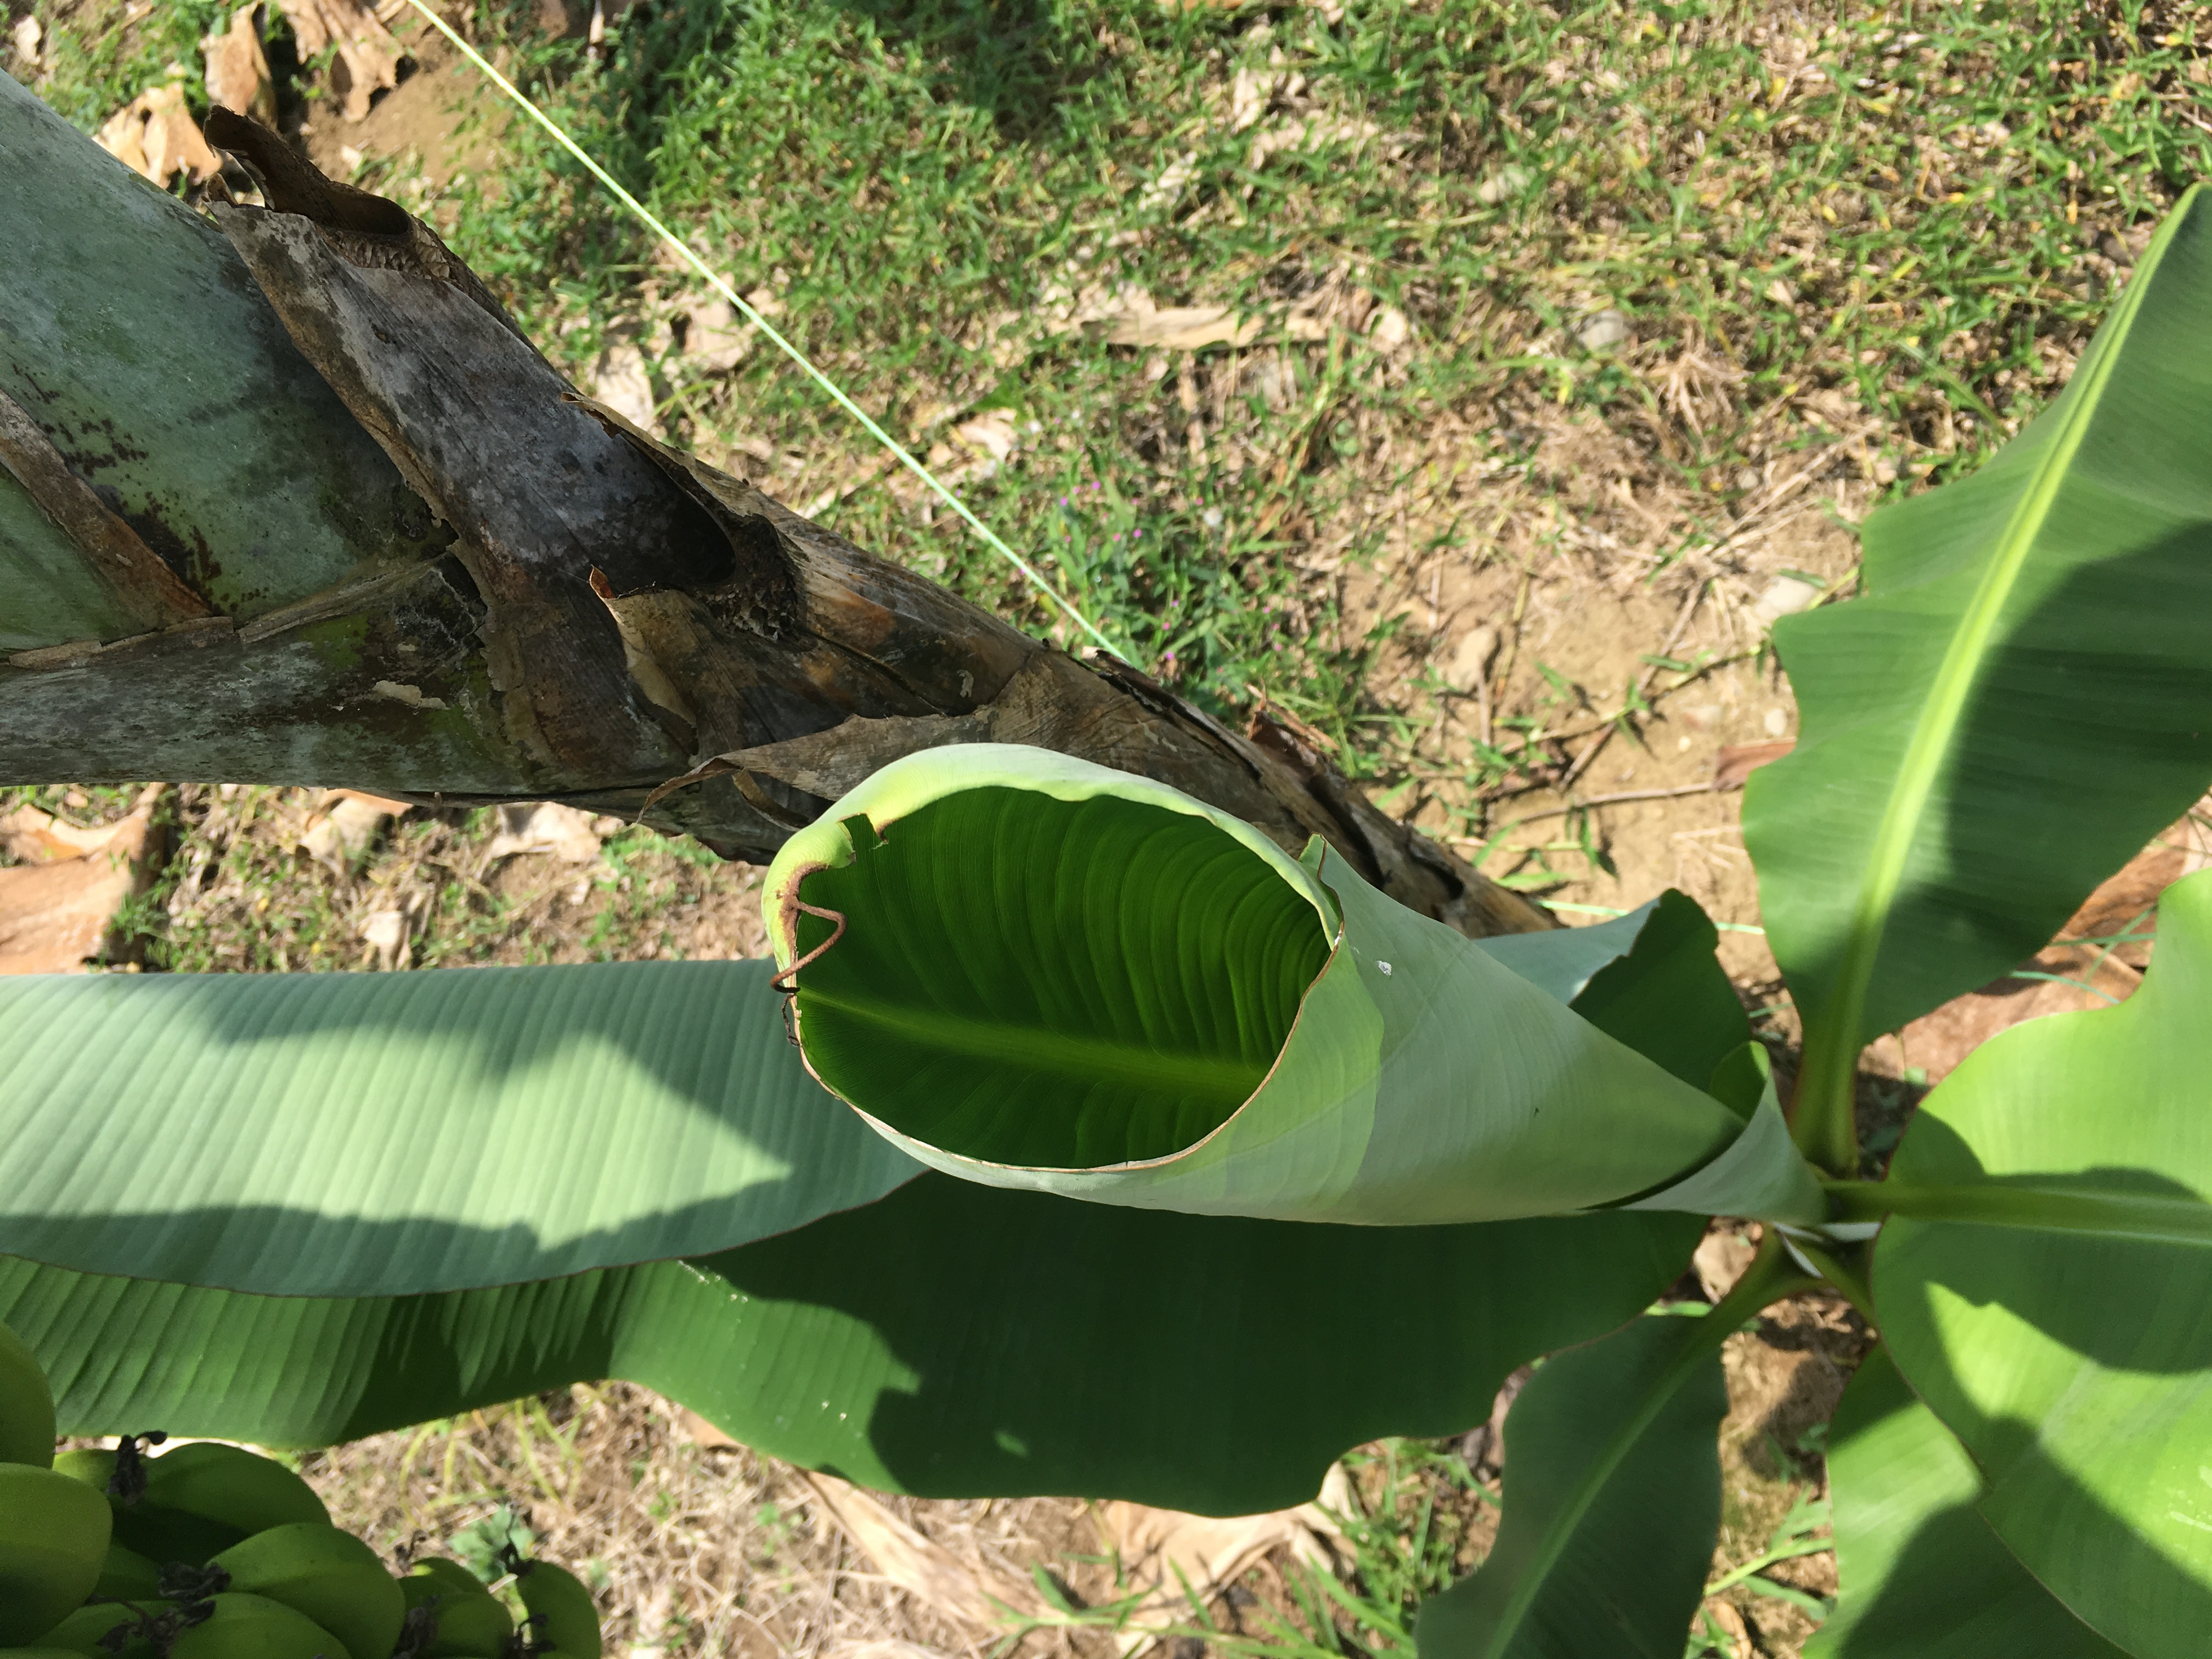candleleafs: (756, 737, 1808, 1236)
